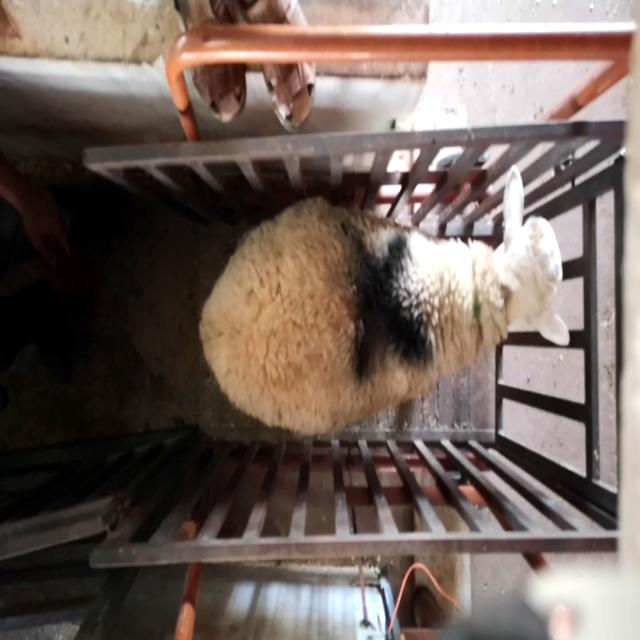sheep: (198, 164, 570, 438)
